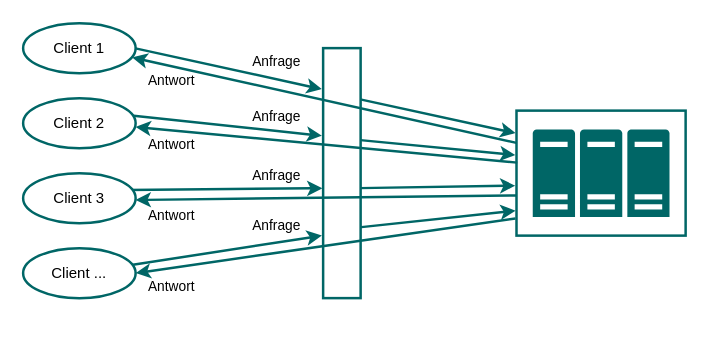
Image size: 708x345. Some labels were removed from this diagram. Each missing label, with the box of its shape:
Lastverteiler: (321, 46, 361, 299)
Server: (515, 109, 686, 236)
